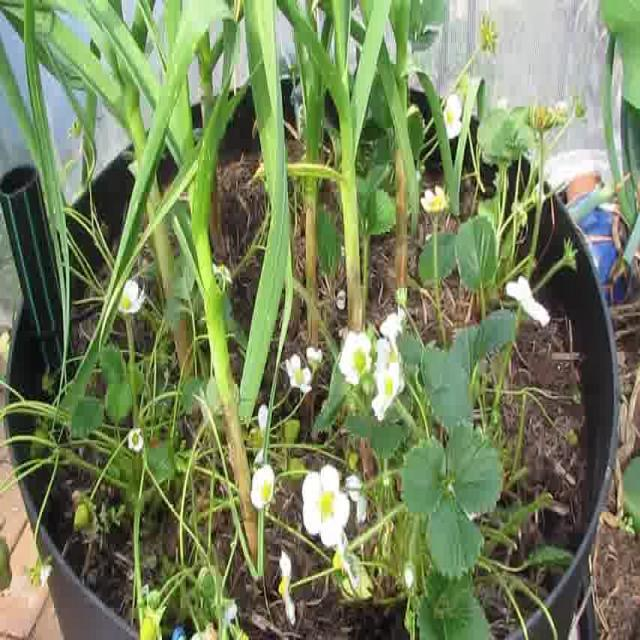Fruta sana: (140, 608, 166, 640), (31, 421, 49, 460), (0, 536, 12, 591), (74, 502, 92, 532), (282, 420, 300, 446), (286, 458, 306, 479), (42, 373, 55, 396), (347, 450, 360, 470), (233, 630, 250, 640)
Moho gris: (192, 624, 218, 640)
